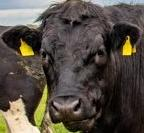muzzles: (45, 92, 94, 128)
